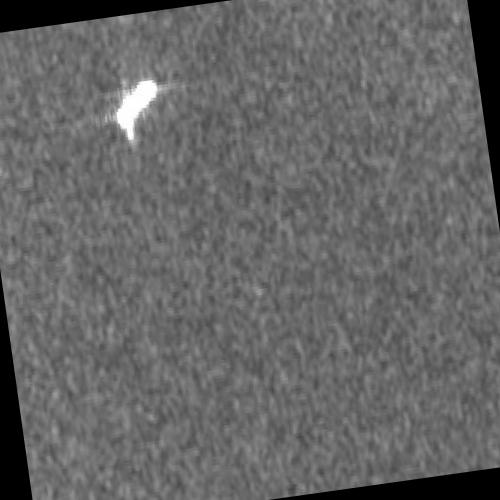ship: (116, 79, 159, 140)
